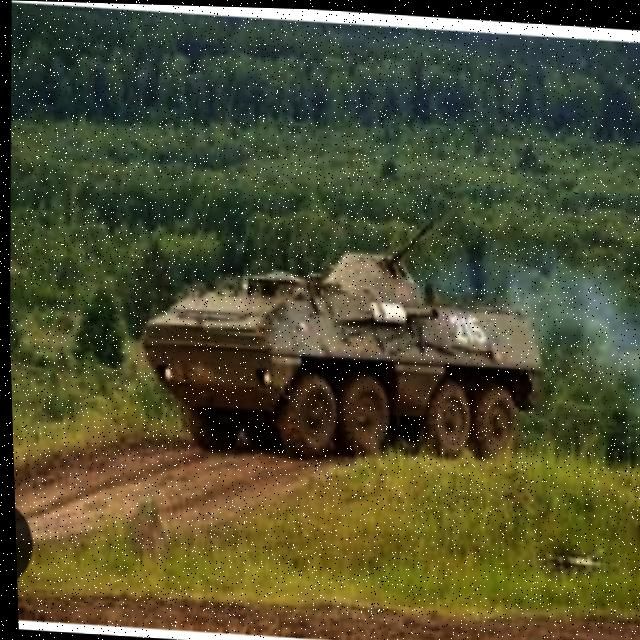MIL_APC: (124, 195, 569, 489)
